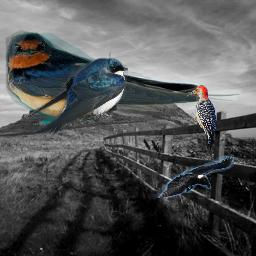Crow: (157, 154, 234, 198)
Swallow: (1, 28, 241, 124), (20, 57, 128, 135)
Woodpecker: (187, 85, 216, 150)
